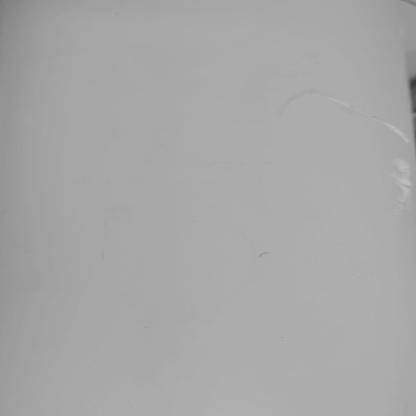sunshang: (313, 91, 410, 146), (394, 159, 416, 213)
